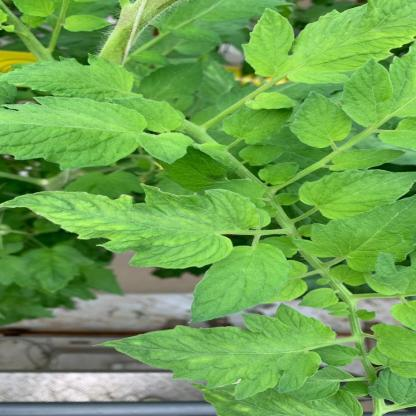T_L_H: (1, 98, 148, 170), (296, 198, 416, 272), (193, 245, 291, 322), (342, 60, 394, 128), (291, 93, 353, 149), (163, 148, 236, 192), (223, 107, 293, 145), (114, 98, 183, 133), (288, 367, 356, 400), (366, 255, 416, 296), (138, 133, 195, 164), (372, 324, 416, 362), (369, 371, 416, 406), (330, 151, 405, 172), (314, 346, 361, 367), (239, 146, 286, 167), (260, 163, 300, 185), (247, 93, 296, 110), (280, 371, 286, 377)
T_L_R: (1, 186, 271, 270), (105, 306, 336, 400), (244, 1, 415, 86), (1, 57, 140, 103), (300, 171, 416, 220), (197, 386, 364, 416), (264, 261, 309, 304), (300, 289, 339, 309)
T_S_R: (101, 1, 182, 66)
